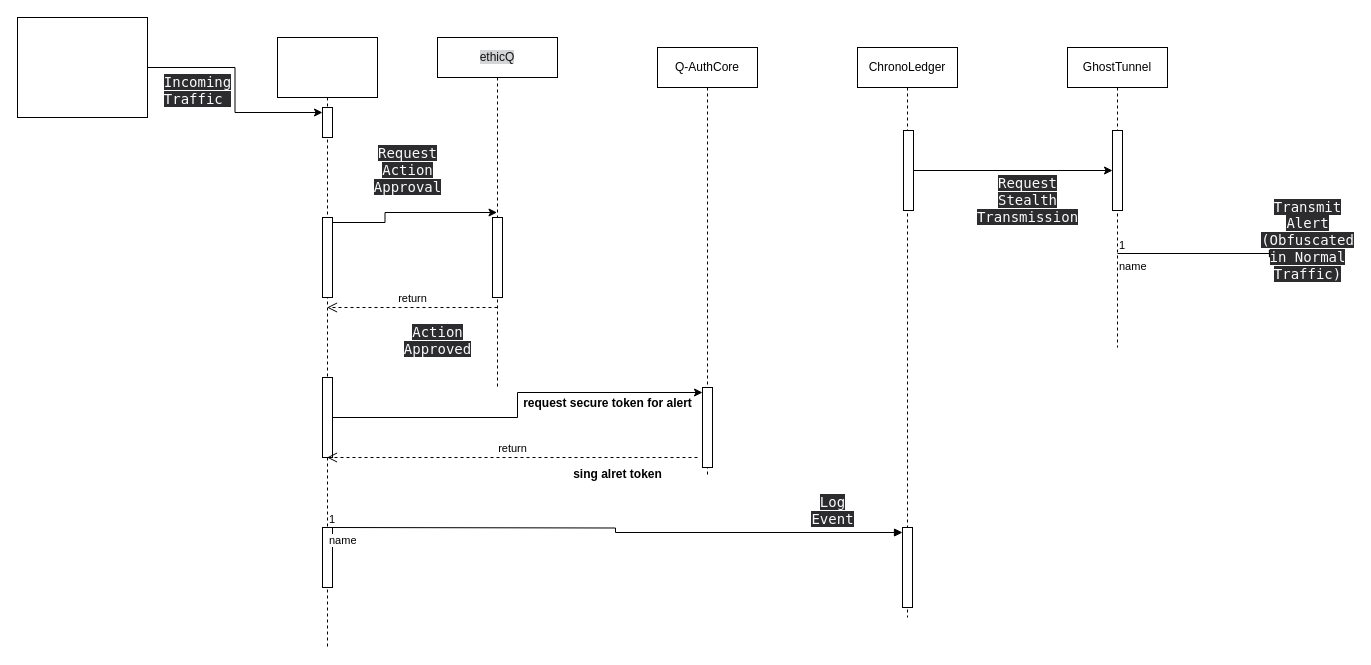
Image size: 1371x665. Some labels were removed from this diagram. The centre of each missing label's shape, as x and y in pixels:
"mutlant shield" belongs at (327,342).
"Network Traffic" belongs at (82,67).
